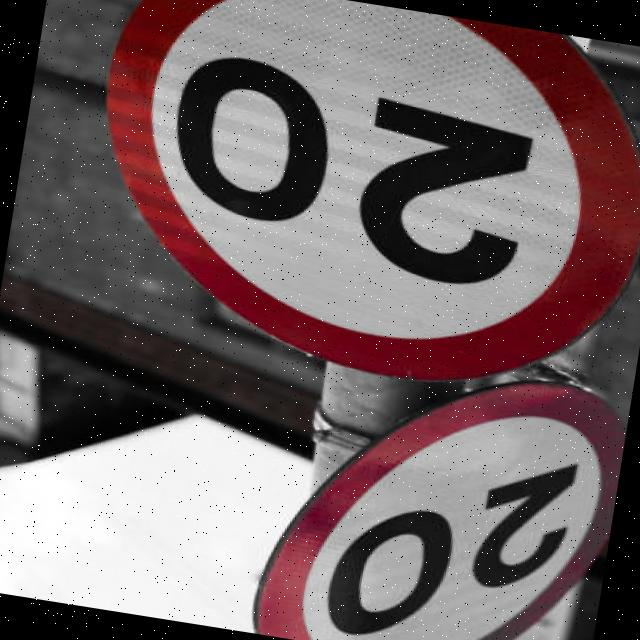speed_limit_20: (52, 0, 640, 415), (243, 337, 632, 640)
